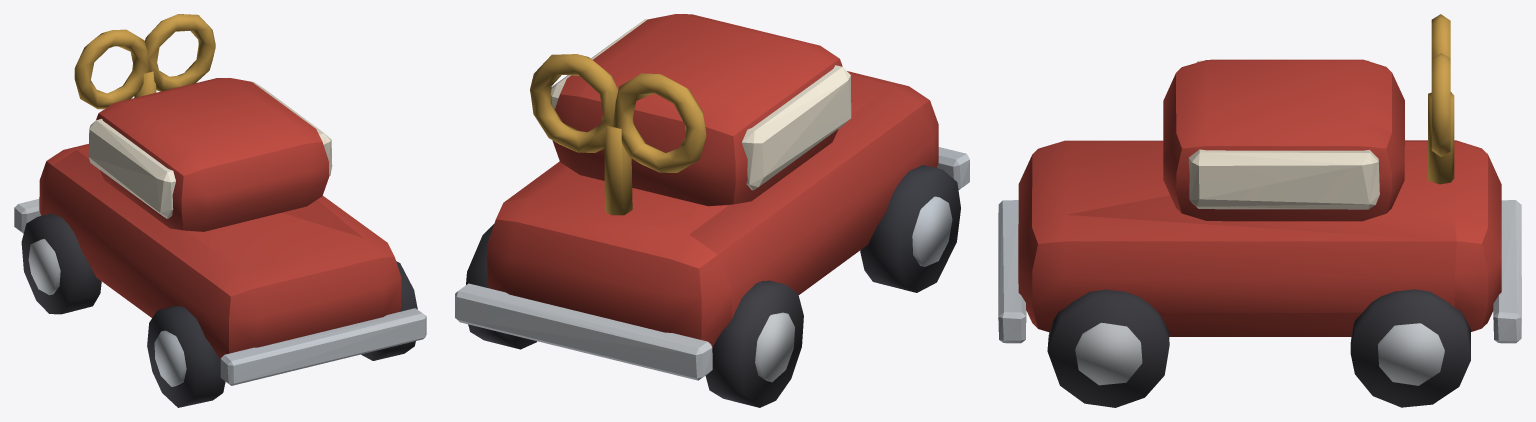
Rendered from den_windup_car_lod1.glb.
3 views of the same model, side by side, from view 1: azimuth 30°, elevation 25°; view 2: azimuth 150°, elevation 25°; view 3: azimuth 270°, elevation 25° (orthographic). The views are drawn at different scales.
Visible parts, largest first — view 1: den_windup_car.001; view 2: den_windup_car.001; view 3: den_windup_car.001.
Part boxes in pixels (bbox=[...]): den_windup_car.001: bbox=[14, 14, 426, 407]; den_windup_car.001: bbox=[455, 14, 969, 407]; den_windup_car.001: bbox=[998, 14, 1521, 407].
Size of the model in its own units: 2.64 by 2.78 by 4.33.
